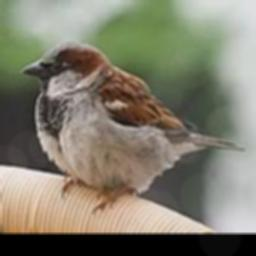Sparrow: (20, 39, 244, 212)
